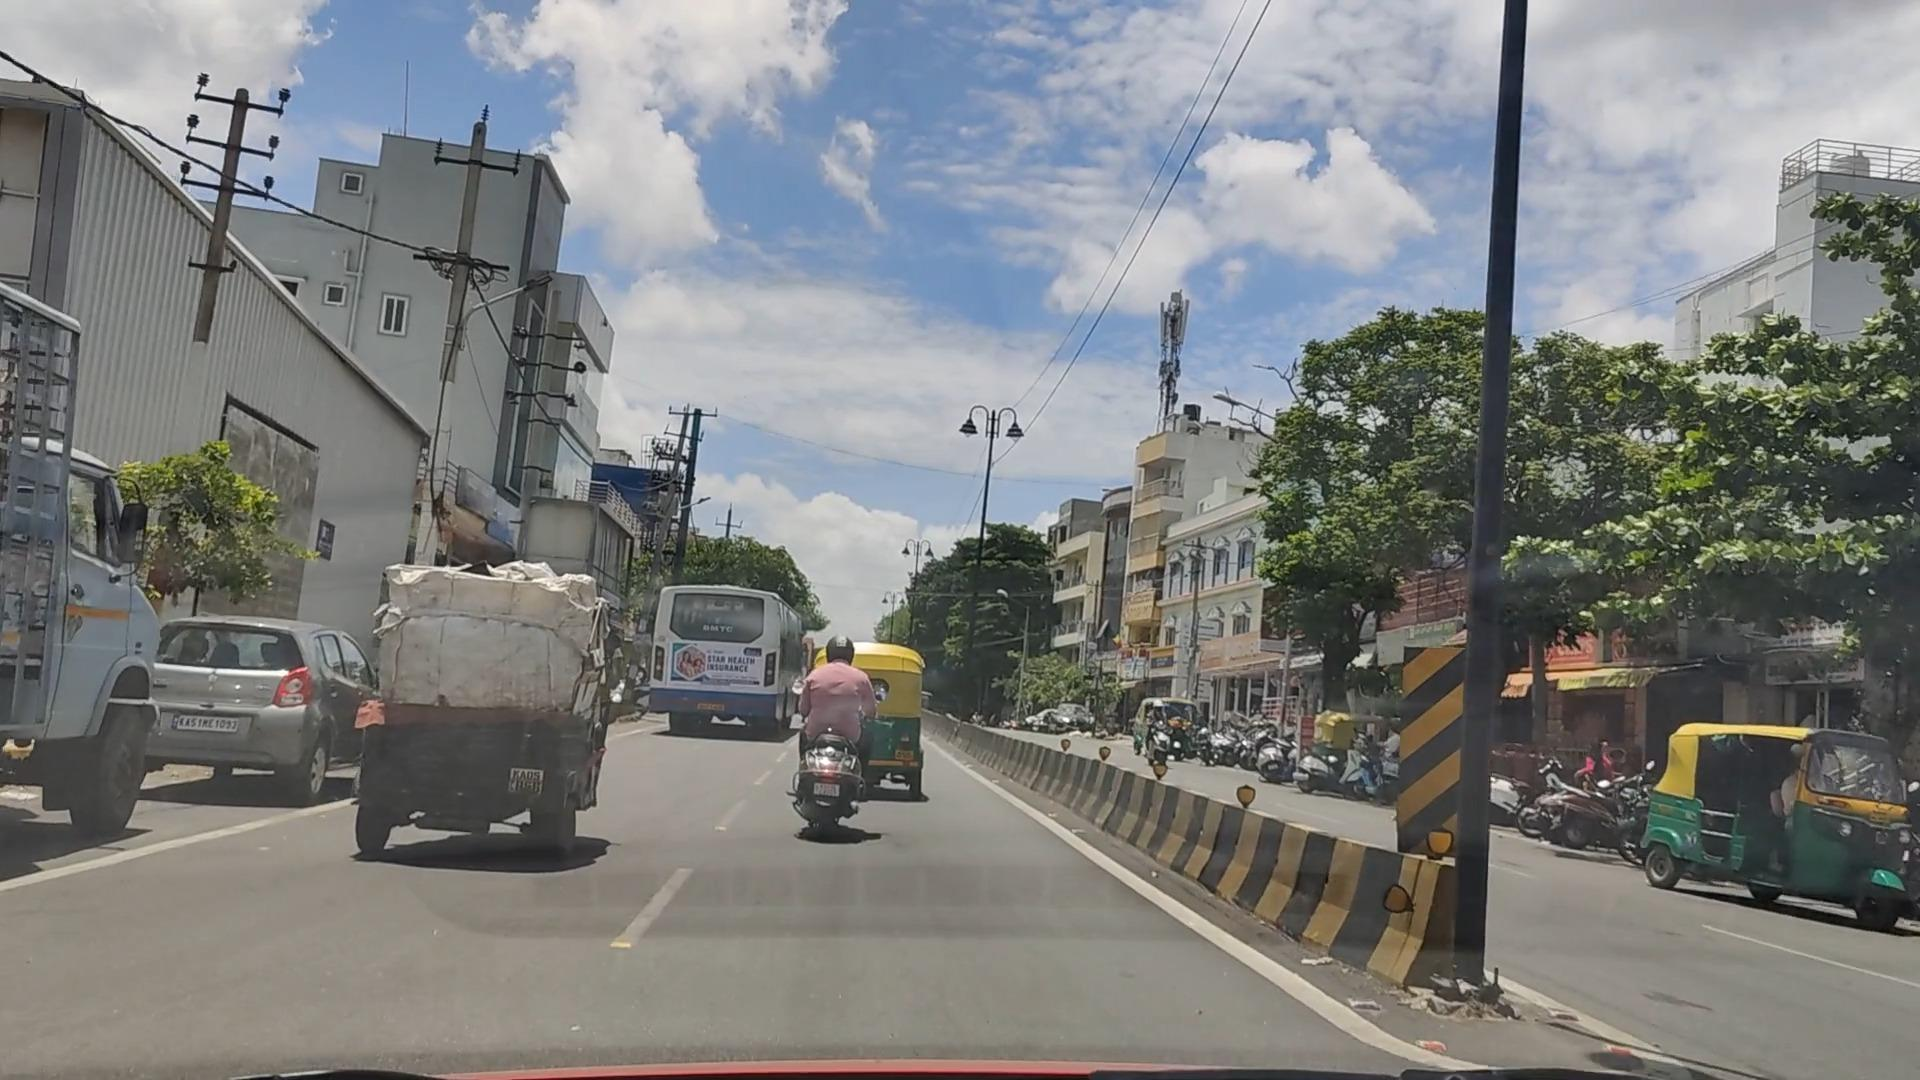HMV: (365, 550, 612, 858), (638, 575, 803, 740)
LMV: (793, 622, 889, 844), (790, 663, 945, 790)
